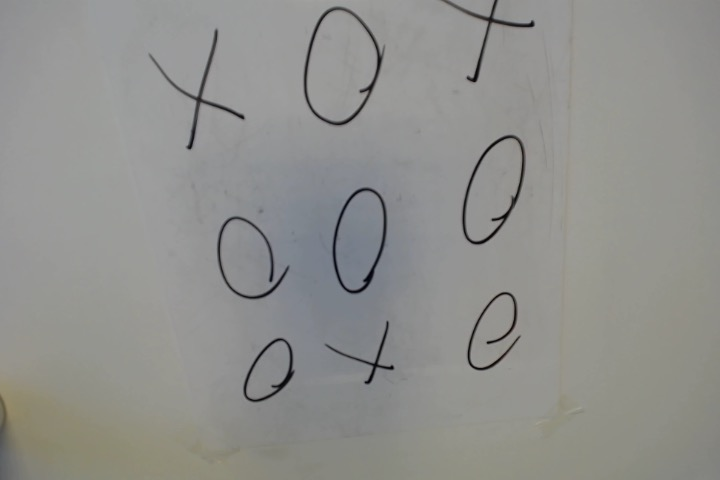0: (300, 6, 386, 140), (457, 128, 530, 255), (328, 185, 392, 301), (212, 215, 296, 303), (463, 288, 527, 377), (236, 335, 299, 405)
x: (146, 31, 252, 155), (324, 316, 398, 390)
